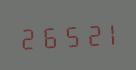five: (58, 20, 77, 49)
one: (98, 18, 117, 47)
six: (38, 21, 57, 50)
two: (18, 22, 37, 51), (78, 19, 97, 48)
